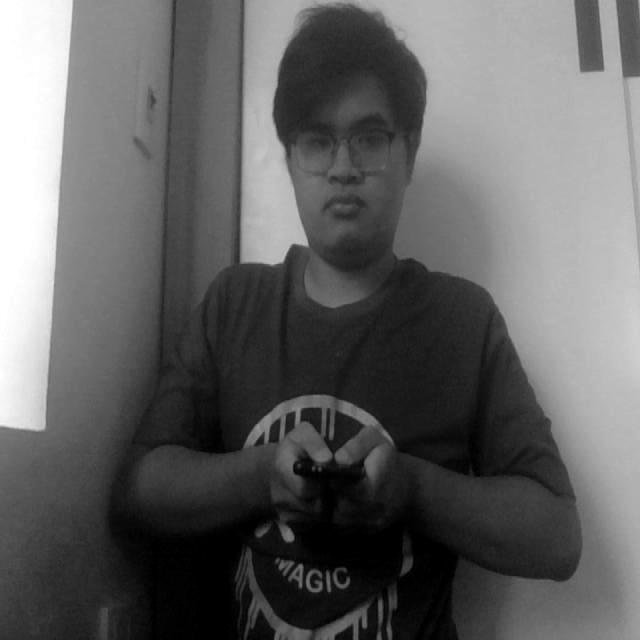phone: (289, 428, 378, 513)
